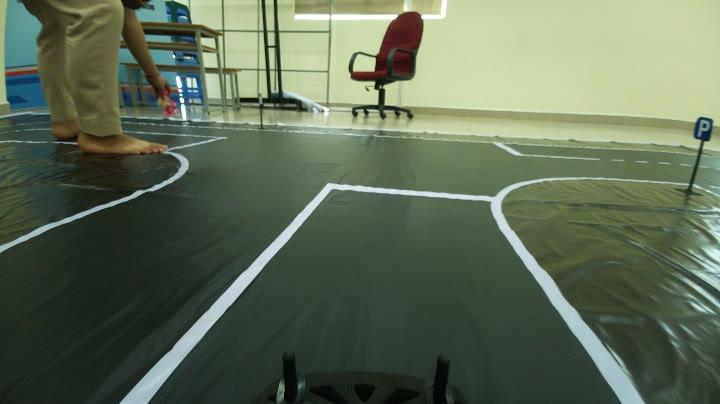parking: (694, 111, 717, 148)
